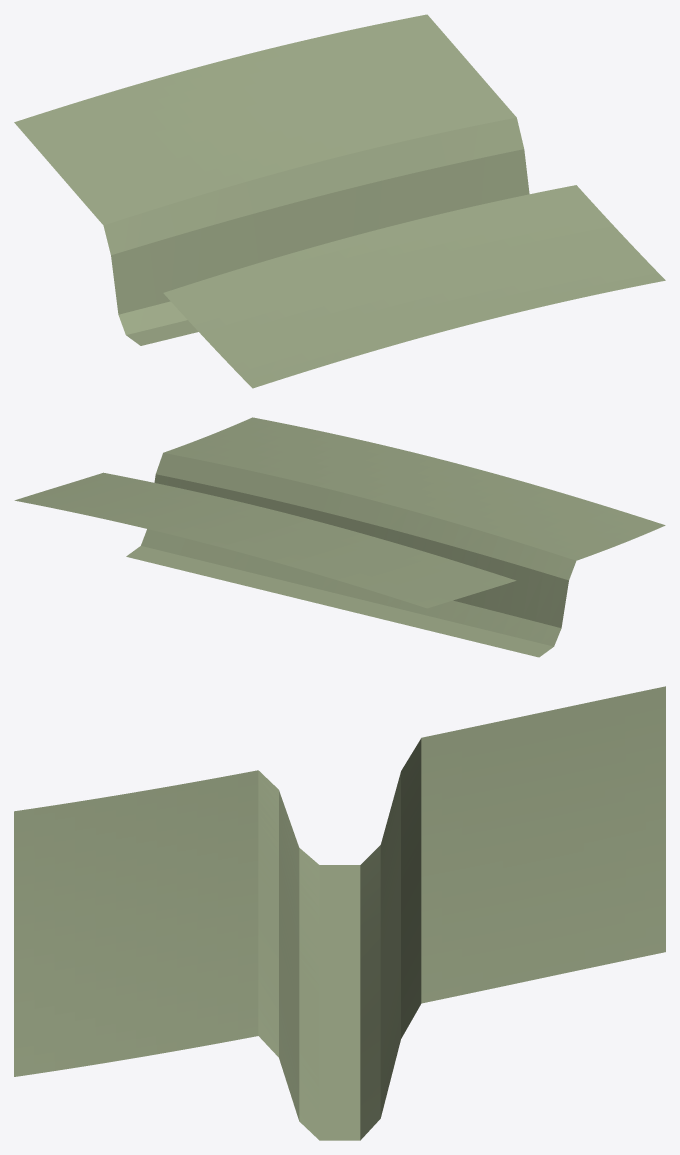
File: valley-6-2.glb
The picture shows the model from 3 angles, top to bottom: view 1: azimuth 30°, elevation 25°; view 2: azimuth 150°, elevation 25°; view 3: azimuth 270°, elevation 25°; orthographic projection. The views are drawn at different scales.
Visible parts, largest first — view 1: valley-6-2; view 2: valley-6-2; view 3: valley-6-2.
Part boxes in pixels (<box>): valley-6-2: <box>14,14,665,388</box>; valley-6-2: <box>14,417,665,657</box>; valley-6-2: <box>14,686,665,1140</box>.
Size of the model in its own units: 256 by 84.18 by 256.
